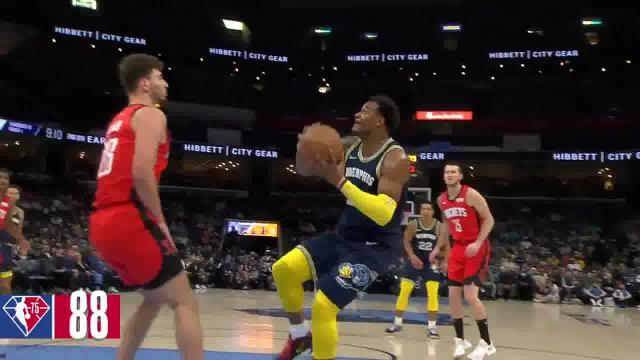ball-handler: (270, 94, 410, 360)
player: (87, 53, 195, 360), (433, 160, 495, 360), (382, 200, 448, 341)
